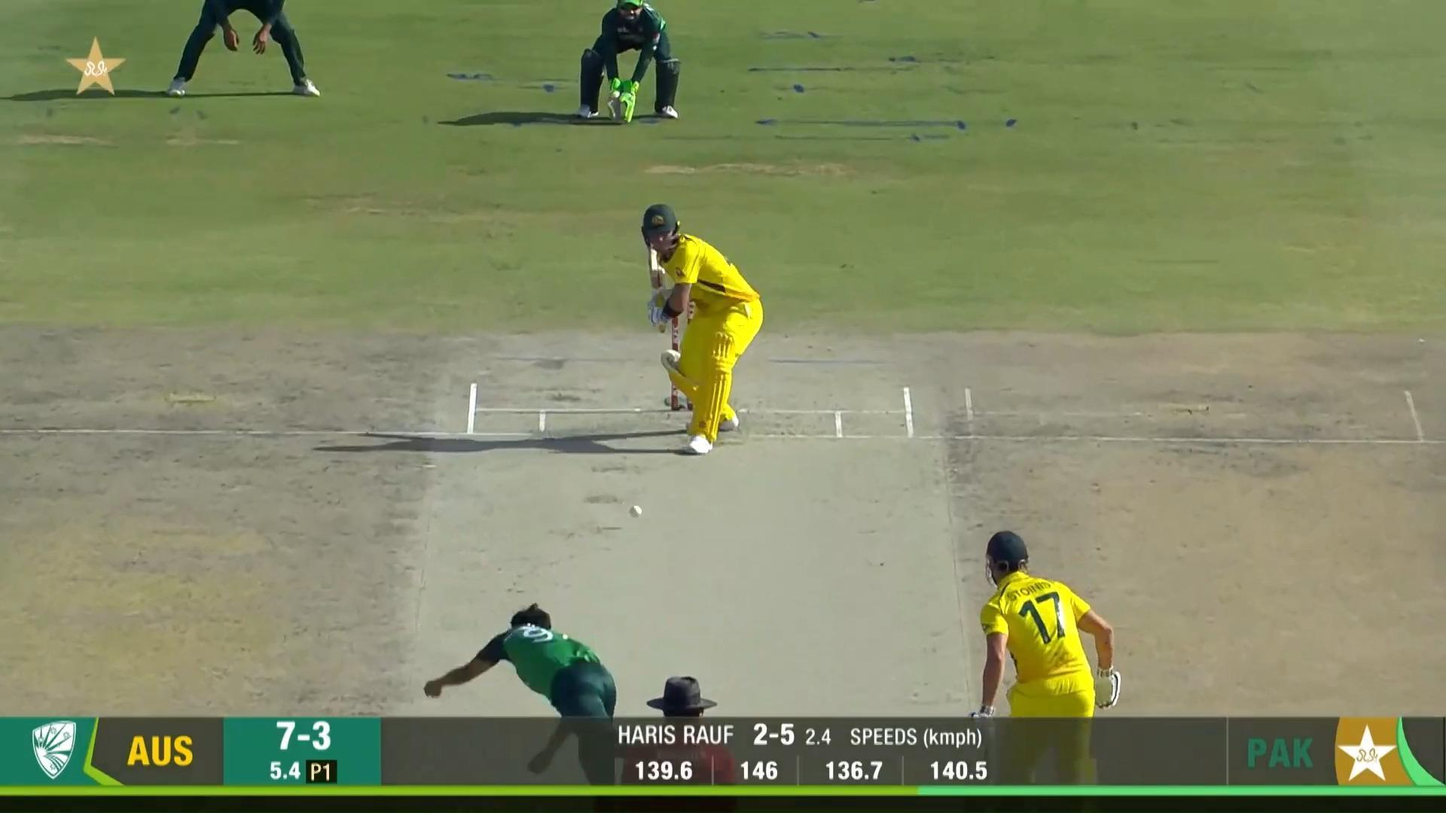BM 1: (642, 204, 763, 455)
BO: (424, 602, 671, 813)
